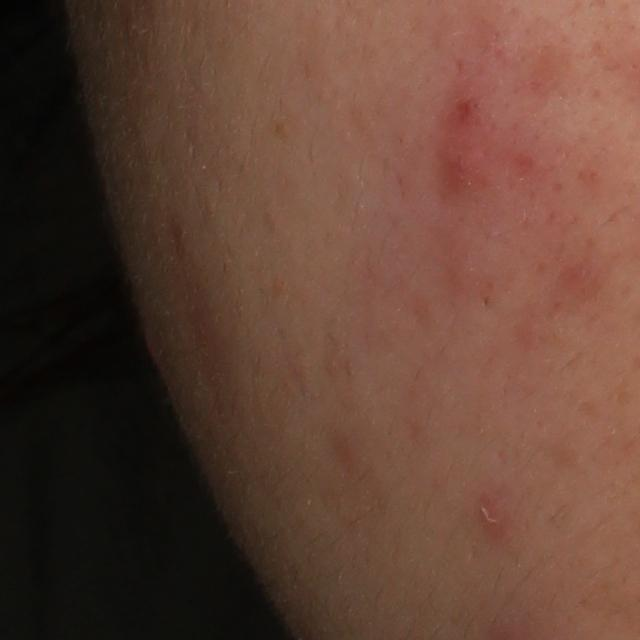papule: (441, 84, 489, 141), (442, 144, 486, 193), (476, 490, 506, 531)
